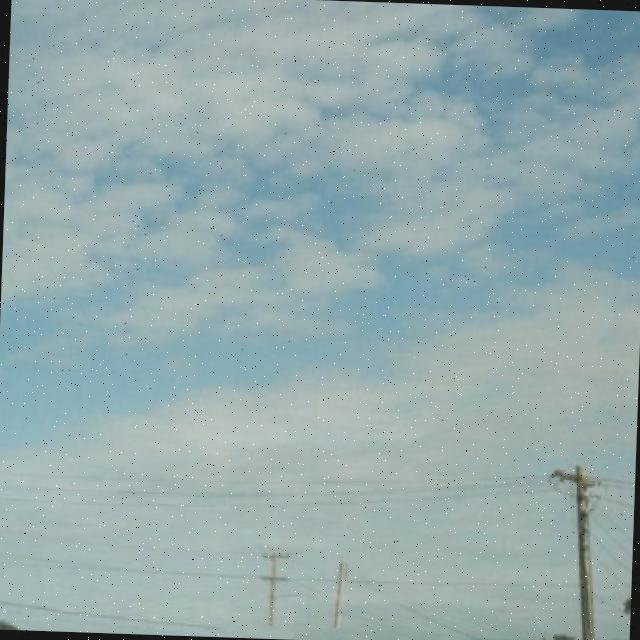Sc: (1, 1, 640, 405)
